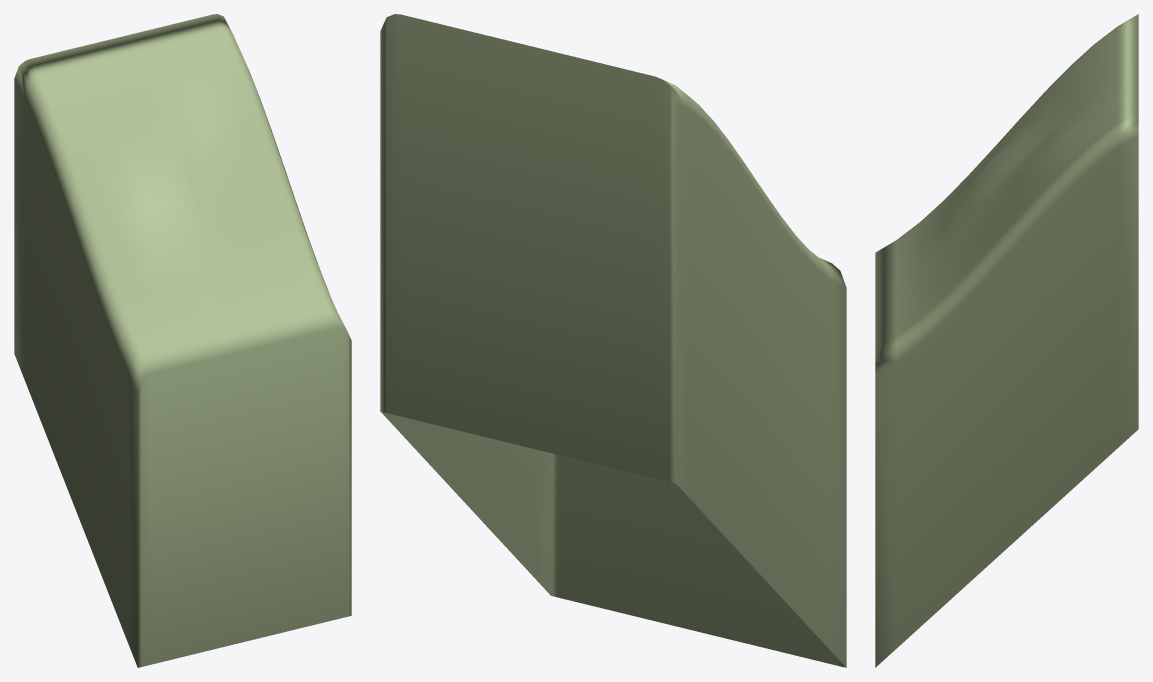
File: ground-ramp-lr-11.glb
3 renders of one model, left to right at view 1: azimuth 30°, elevation 25°; view 2: azimuth 150°, elevation 25°; view 3: azimuth 270°, elevation 25°, orthographic. The views are drawn at different scales.
Parts seen in each view (by area): view 1: ground-ramp-lr-11; view 2: ground-ramp-lr-11; view 3: ground-ramp-lr-11.
Part boxes in pixels (x1,y1,x2,y2): ground-ramp-lr-11: (14, 14, 351, 667); ground-ramp-lr-11: (380, 14, 846, 667); ground-ramp-lr-11: (875, 14, 1138, 667).
Size of the model in its own units: 1 by 2.3 by 1.
